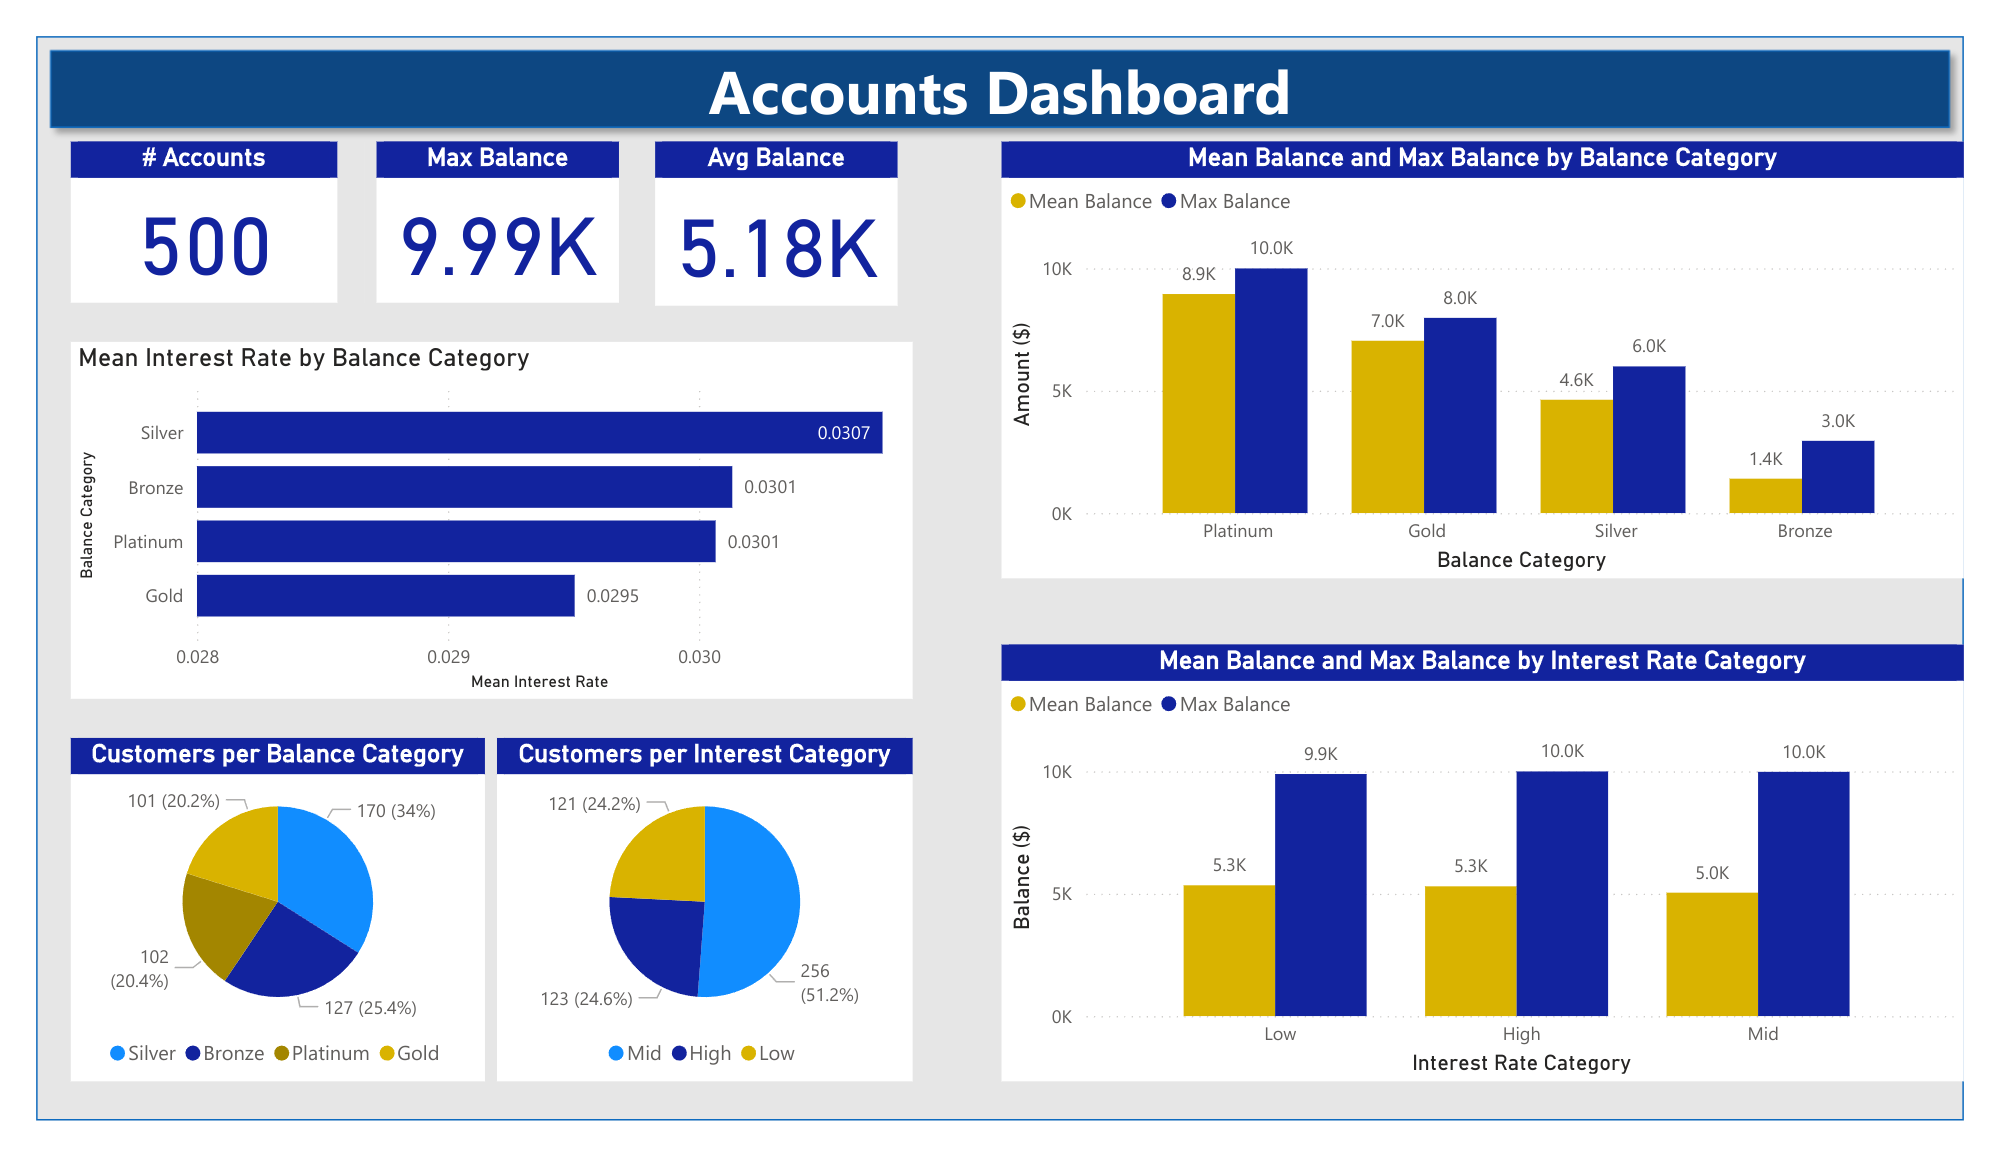

The dashboard page shown, as its layout file describes it:
{"tool":"powerbi","page":{"name":"Page 1","canvas":[1280,720],"ordinal":0},"visuals":[{"type":"shape","box":[0,0,1280.3,720.1],"z":0},{"type":"shape","box":[0,0,1280.3,69.9],"z":1000},{"type":"shape","box":[22.8,69.9,161.2,107.5],"z":2000},{"type":"shape","box":[217.6,69.9,161.2,107.5],"z":3000},{"type":"shape","box":[411.1,71.2,161.2,107.5],"z":4000},{"type":"card","title":"Max Balance","fields":{"Values":["Accounts.Max Balance"]},"box":[225.6,70,161.7,107.4],"z":5000},{"type":"card","title":"# Accounts","fields":{"Values":["Accounts.Count"]},"box":[22.8,69.9,177.3,107.5],"z":6000},{"type":"card","title":"Avg Balance","fields":{"Values":["Accounts.Mean Balance"]},"box":[411.1,69.9,161.2,108.8],"z":7000},{"type":"clusteredColumnChart","fields":{"Category":["Accounts.Balance Category"],"Y":["Accounts.Mean Balance","Accounts.Max Balance"]},"box":[640.6,70,639.4,289.5],"z":8000},{"type":"pieChart","title":"Customers per Balance Category","fields":{"Category":["Accounts.Balance Category"],"Y":["Accounts.Count"]},"box":[22.9,465.7,275.1,228],"z":9000},{"type":"pieChart","title":"Customers per Interest Category","fields":{"Y":["Accounts.Count"],"Category":["Accounts.Interest Rate Category"]},"box":[306.4,465.7,275.1,228],"z":10000},{"type":"clusteredColumnChart","fields":{"Y":["Accounts.Mean Balance","Accounts.Max Balance"],"Category":["Accounts.Interest Rate Category"]},"box":[640.6,404.2,639.4,289.5],"z":11000},{"type":"barChart","fields":{"Category":["Accounts.Balance Category"],"Y":["Accounts.Mean Interest Rate"]},"box":[22.9,202.7,558.6,237.7],"z":12000}]}

Visuals, with their boxes in screenshot pixels (x1, y1, x2, y2), scaled from the page's 1280x720 canvas onto the 2000x1156 screenshot:
shape: 0 0 1999 1155
shape: 0 0 1999 112
shape: 36 112 288 285
shape: 340 112 592 285
shape: 642 114 894 287
"Max Balance" card: 352 112 605 285
"# Accounts" card: 36 112 313 285
"Avg Balance" card: 642 112 894 287
clusteredColumnChart - Accounts.Balance Category x Accounts.Mean Balance: 1001 112 1999 577
"Customers per Balance Category" pieChart: 36 748 466 1114
"Customers per Interest Category" pieChart: 479 748 909 1114
clusteredColumnChart - Accounts.Mean Balance x Accounts.Max Balance: 1001 649 1999 1114
barChart - Accounts.Balance Category x Accounts.Mean Interest Rate: 36 325 909 707
